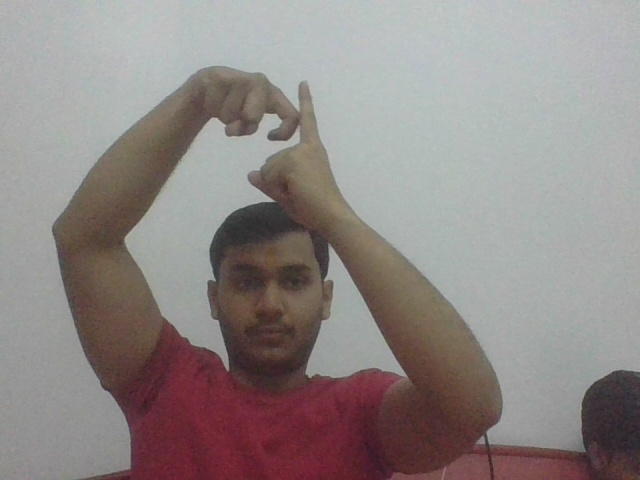K: (247, 66, 332, 169)
